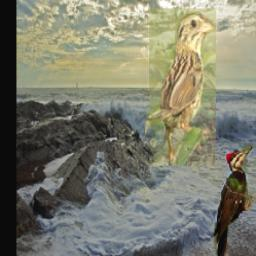Sparrow: (144, 9, 216, 167)
Woodpecker: (213, 145, 255, 256)
